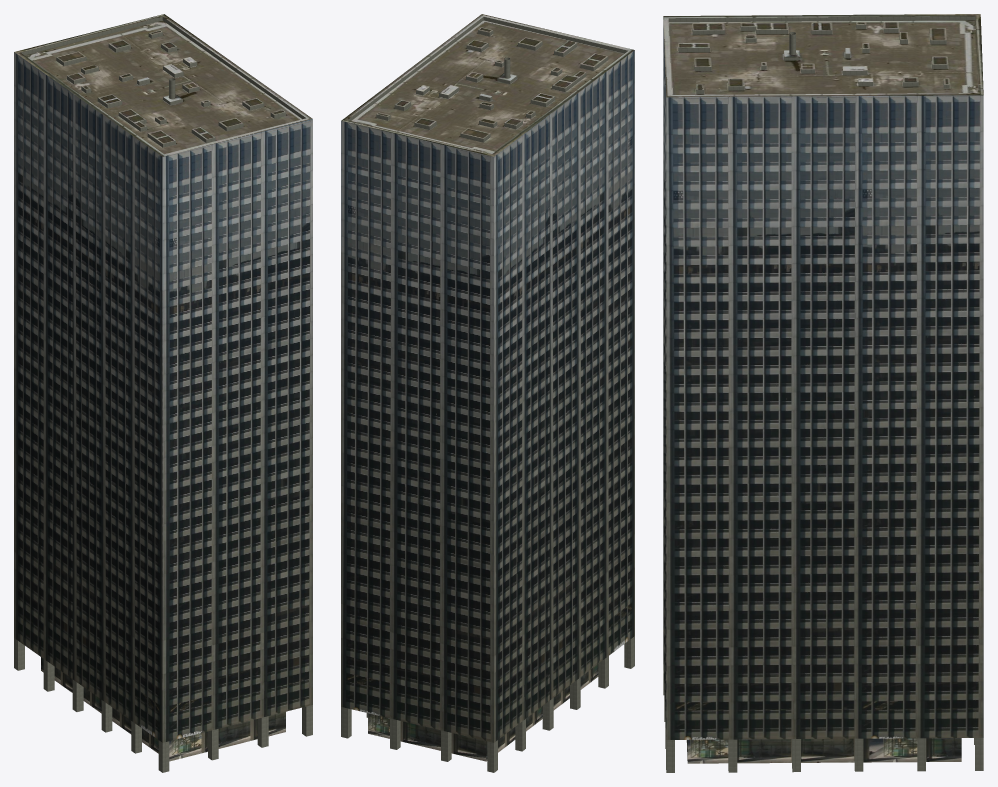
File: Equitable-Building-Chicago.dae
The picture shows the model from 3 angles, left to right: view 1: azimuth 30°, elevation 25°; view 2: azimuth 150°, elevation 25°; view 3: azimuth 270°, elevation 25°; orthographic projection. The views are drawn at different scales.
Parts seen in each view (by area): view 1: SketchUp (×9); view 2: SketchUp (×9); view 3: SketchUp (×8).
Boxes of the visible parts, x1,y1,x2,y2 form: SketchUp (×9): (14,14,312,772); SketchUp (×9): (341,14,634,772); SketchUp (×8): (663,14,983,772).
Bounding box in the file's own units: 1449 × 2357 × 5642.
Materials: 8 (8 with a texture image).
